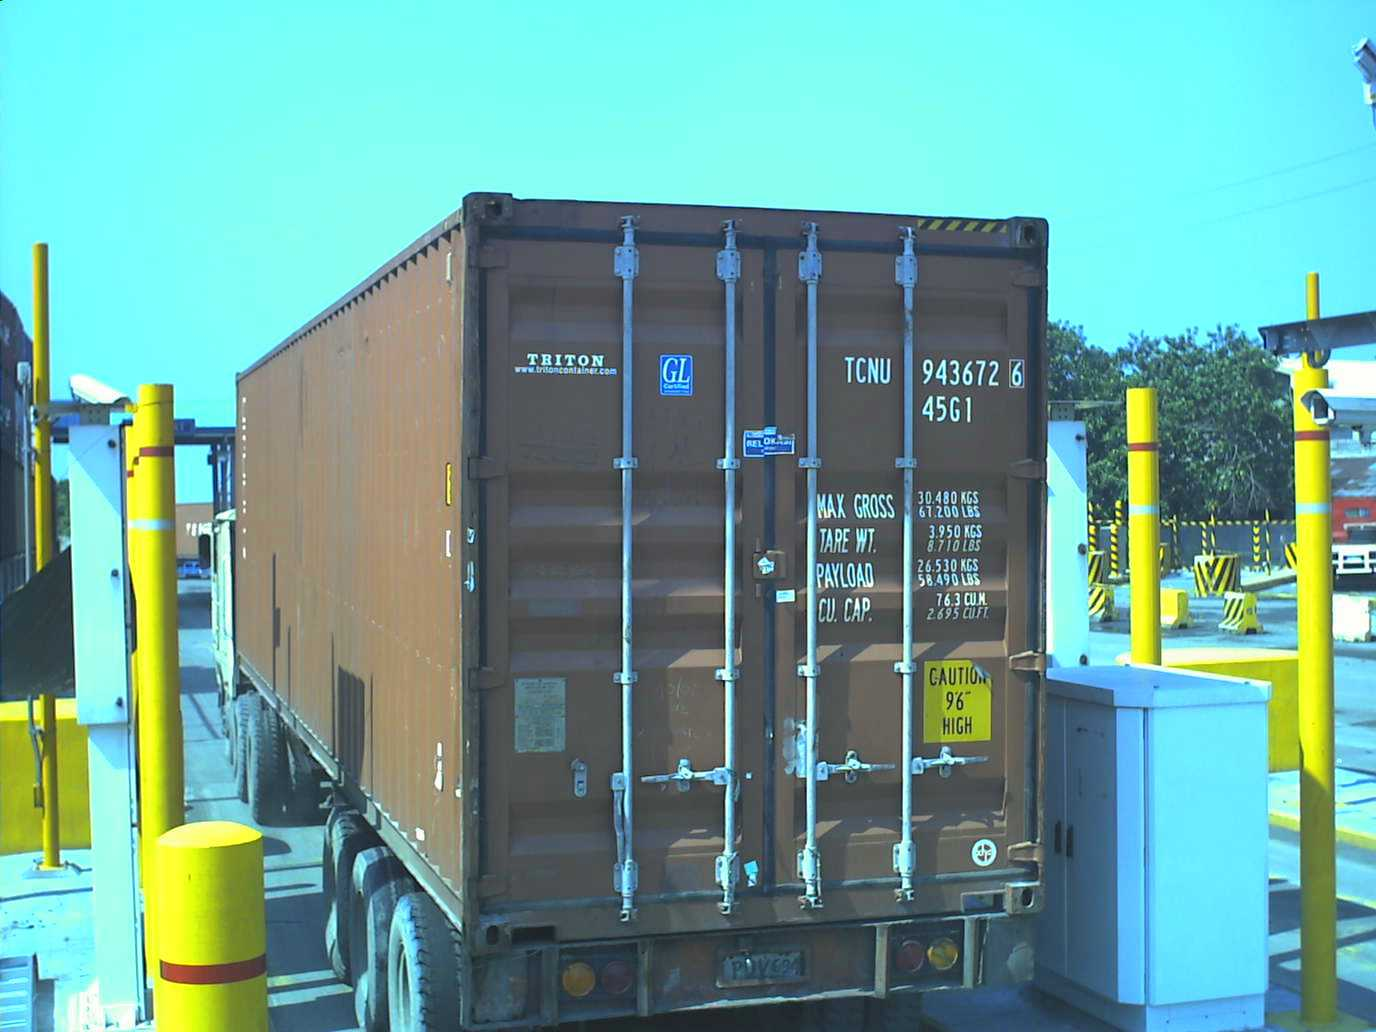container_door: (453, 180, 1054, 953)
